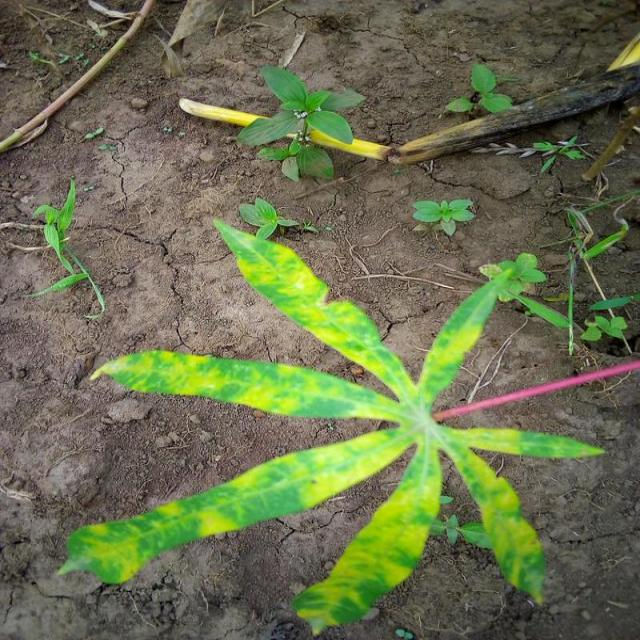cassava leaf: (57, 214, 630, 635)
